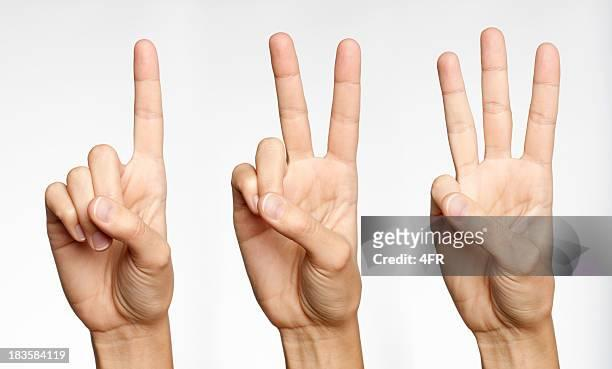peace_sign: (225, 24, 367, 330)
